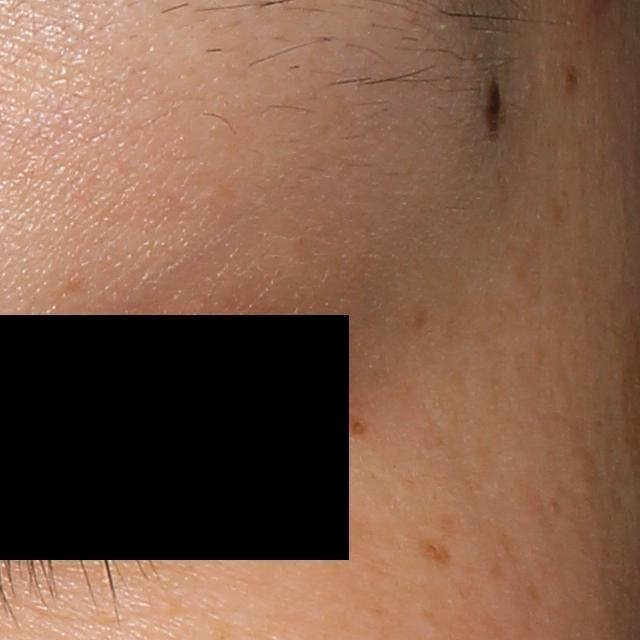melasma: (417, 536, 450, 571)
nevus: (484, 80, 503, 132)
